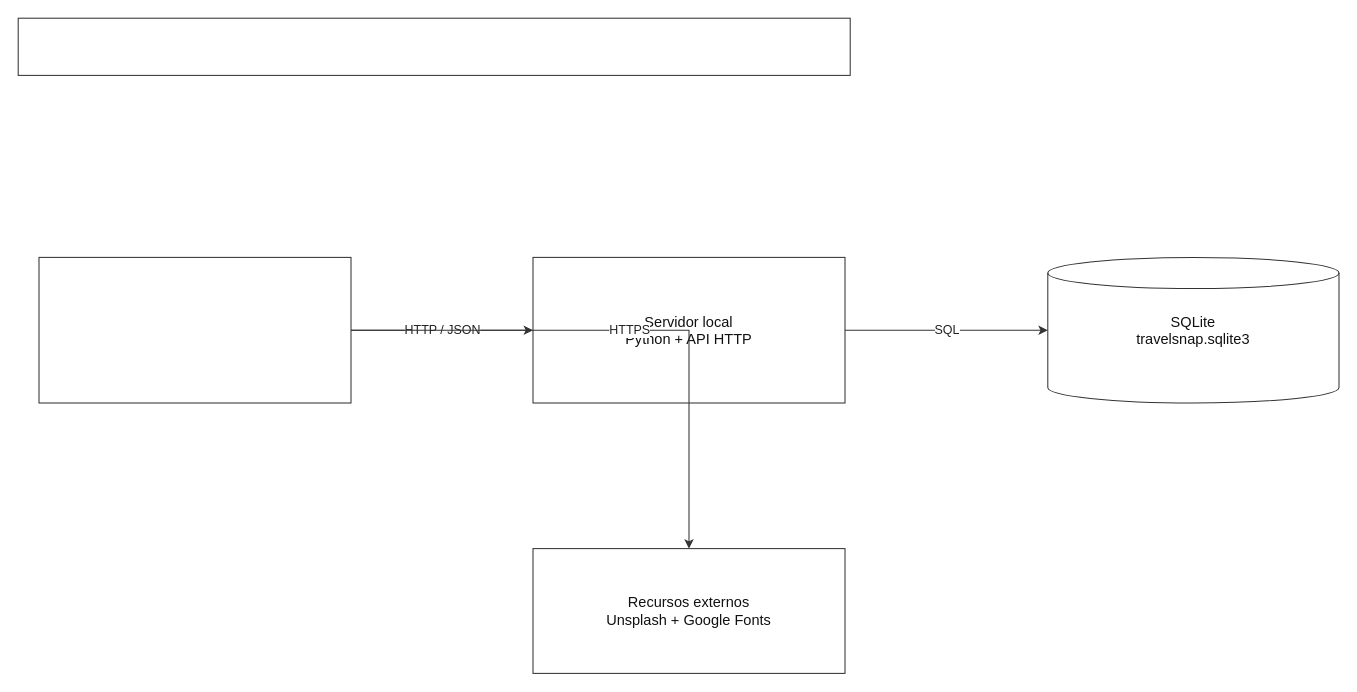
The diagram is 1357 pixels wide and 692 high, and some of its shapes have lost their labels. Here are the shapes that lost their labels. From the top down, the centre of each, then its label:
At [433,46]: "TravelSnap - Arquitectura actual".
At [194,329]: "Navegador HTML + CSS + JavaScript".
